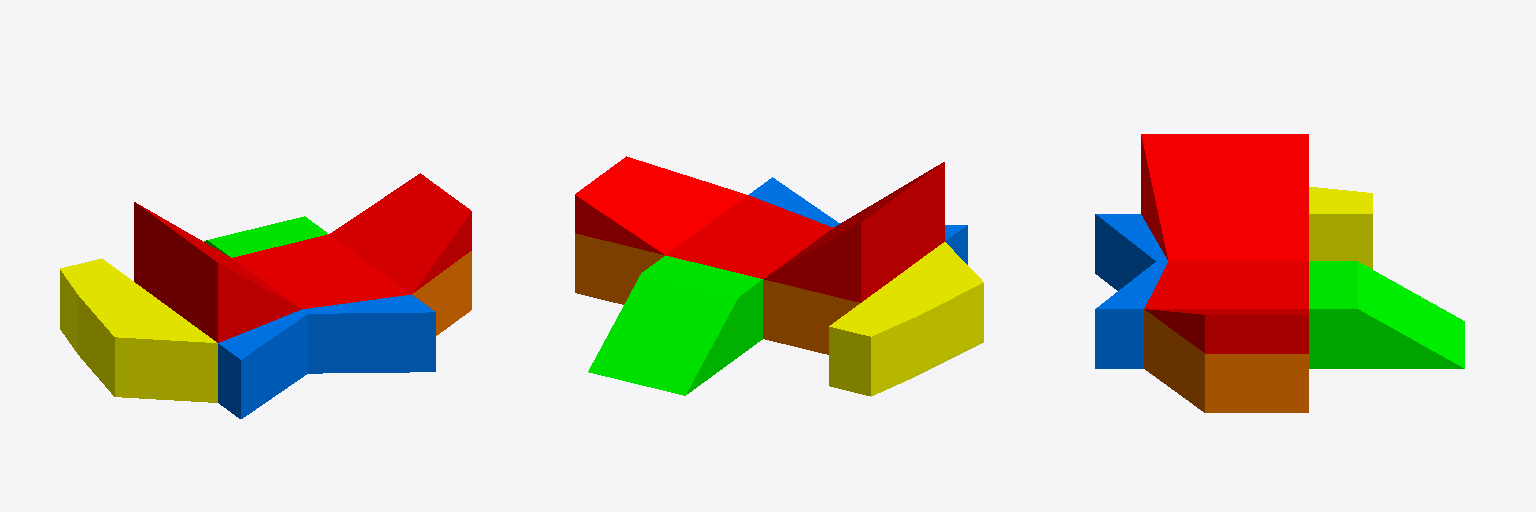
Rendered from building.obj.
3 renders of one model, left to right at view 1: azimuth 30°, elevation 25°; view 2: azimuth 150°, elevation 25°; view 3: azimuth 270°, elevation 25°, orthographic.
Parts seen in each view (by area): view 1: building.obj; view 2: building.obj; view 3: building.obj.
Boxes of the visible parts, box(x1,y1,x2,y2) form: building.obj: box(60, 173, 471, 418); building.obj: box(575, 156, 983, 396); building.obj: box(1095, 134, 1464, 412).
Bounding box in the file's own units: 19.77 × 7.39 × 17.68.